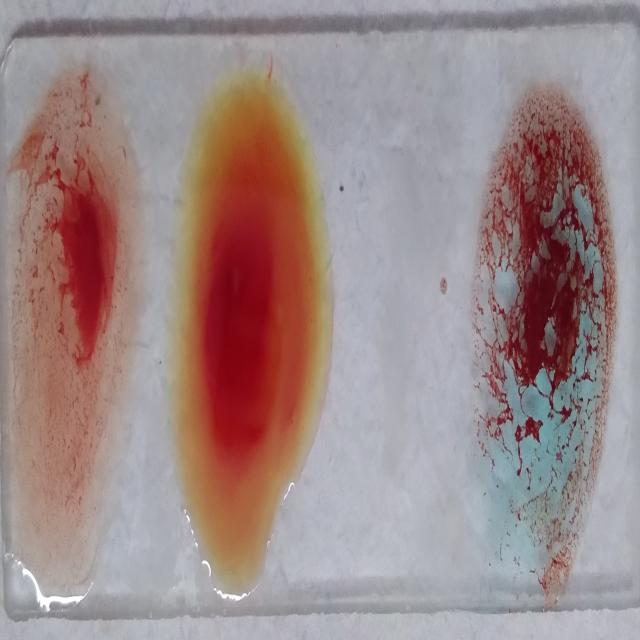A: (472, 90, 612, 570)
D: (5, 86, 135, 567)
